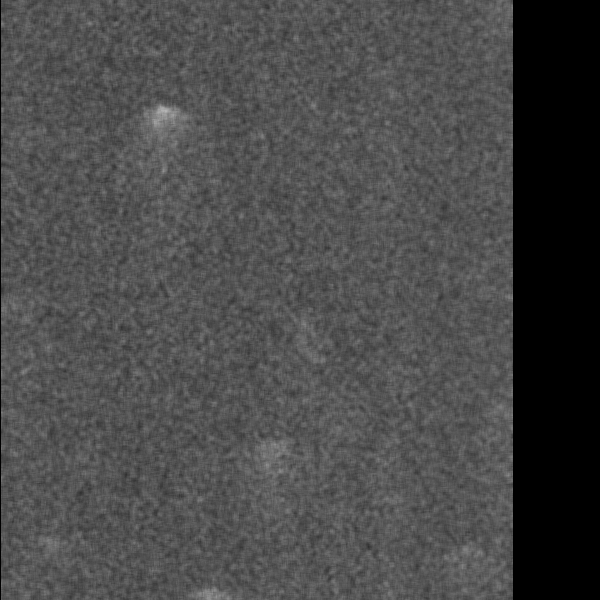spark: (22, 1, 86, 86), (134, 394, 163, 477), (316, 586, 347, 600)
